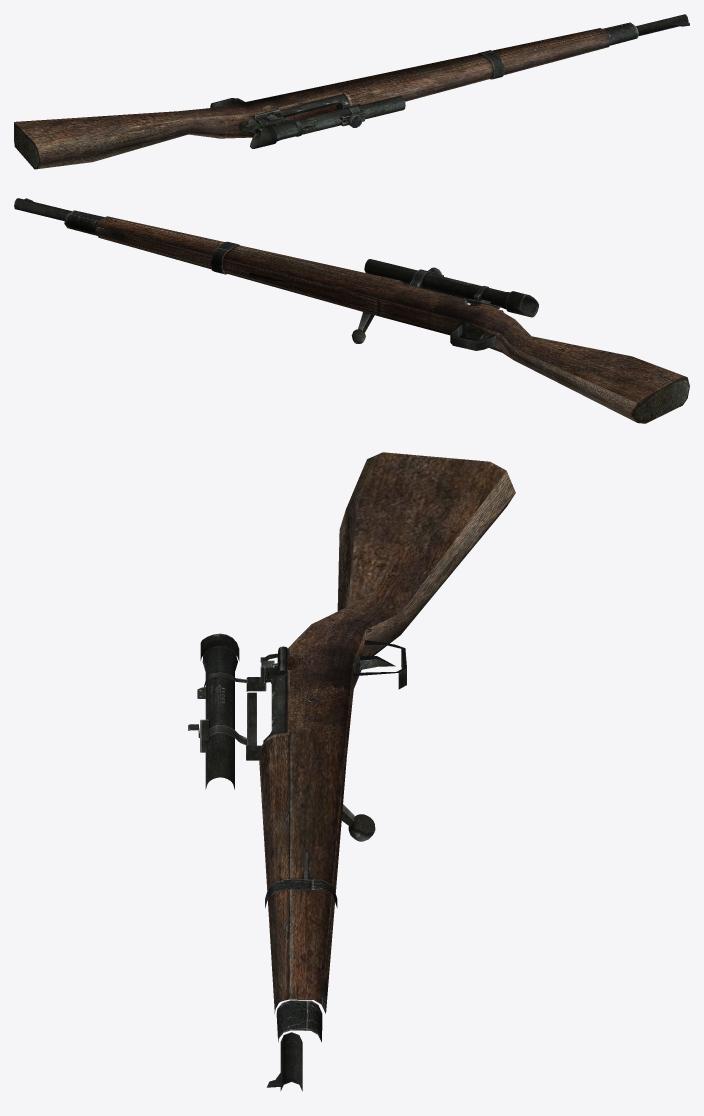
Rendered from viewmodel_springfield.glb.
3 renders of one model, top to bottom at view 1: azimuth 30°, elevation 25°; view 2: azimuth 150°, elevation 25°; view 3: azimuth 270°, elevation 25°, orthographic. The views are drawn at different scales.
Size of the model in its own units: 49.18 by 3.6 by 11.1.
Materials: 2 (2 with a texture image).
